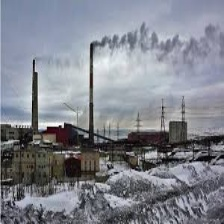smoke: (94, 30, 216, 79)
